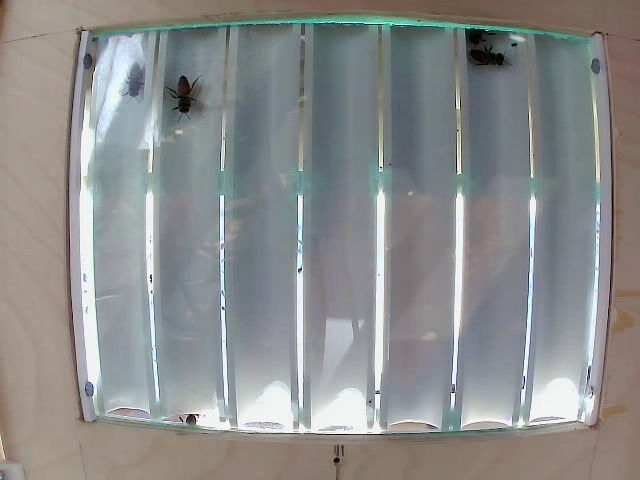bee: (172, 68, 203, 117), (120, 61, 153, 99)
